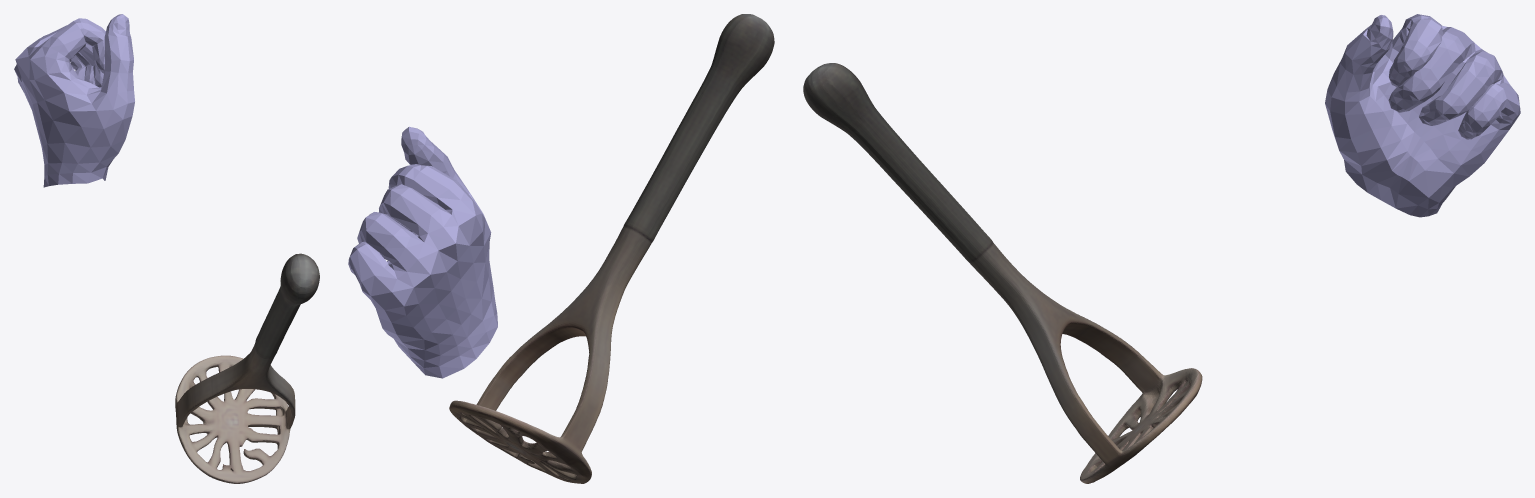
The model's file is frame_0054_source_000054_hand_object.glb.
The picture shows the model from 3 angles, left to right: view 1: azimuth 30°, elevation 25°; view 2: azimuth 150°, elevation 25°; view 3: azimuth 270°, elevation 25°; orthographic projection. The views are drawn at different scales.
Parts seen in each view (by area): view 1: world; view 2: world; view 3: world.
Boxes of the visible parts, box(x1,y1,x2,y2) form: world: box(14, 14, 319, 483); world: box(348, 14, 774, 483); world: box(803, 14, 1520, 483).
Bounding box in the file's own units: 0.0962 × 0.2578 × 0.3659.
